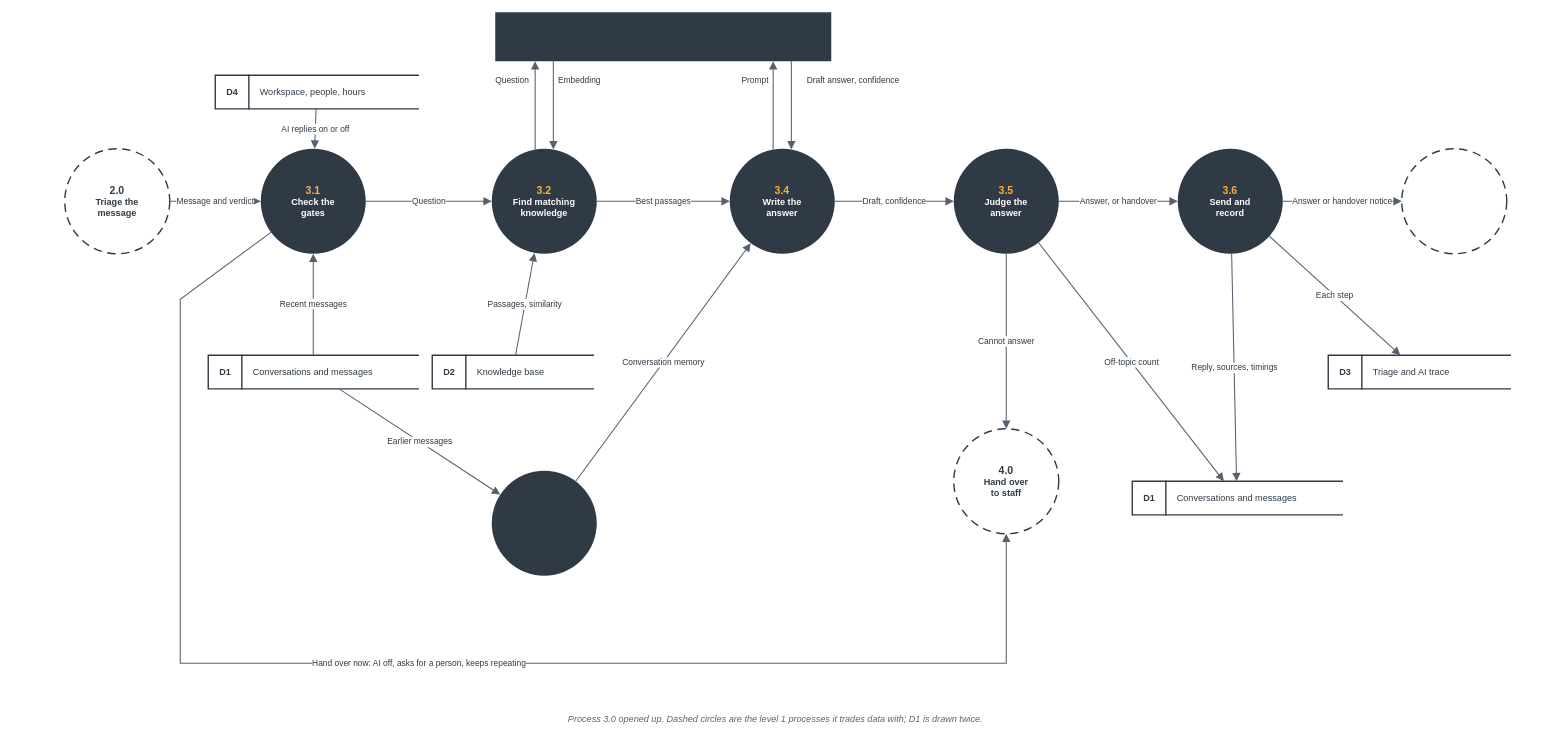
Image size: 1550x739. Some labels were removed from this diagram. The box of each missing label's shape, as (x1, y1, x2, y2) in pixels:
1.0 Receive and send messages: (1401, 148, 1507, 254)
3.3 Recall the conversation: (491, 470, 596, 575)
AI model services: (495, 12, 831, 61)
